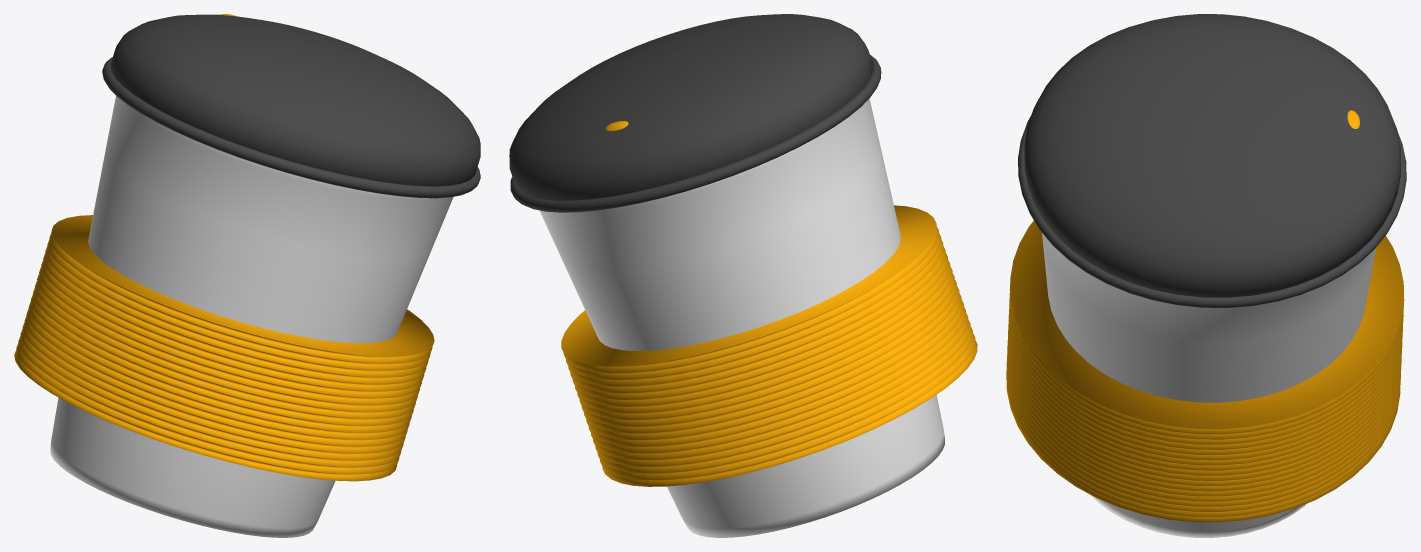
File: coffee_cup.glb
The picture shows the model from 3 angles, left to right: view 1: azimuth 30°, elevation 25°; view 2: azimuth 150°, elevation 25°; view 3: azimuth 270°, elevation 25°; orthographic projection.
Parts seen in each view (by area): view 1: CupBody, CupSleeve, CupLid, LidGrip; view 2: CupBody, CupSleeve, CupLid, LidGrip; view 3: CupLid, CupSleeve, CupBody, LidGrip.
Boxes of the visible parts, left/top/right/bottom form: CupBody: left=50, top=96, right=453, bottom=537; CupSleeve: left=14, top=215, right=434, bottom=481; CupLid: left=110, top=14, right=480, bottom=186; LidGrip: left=102, top=57, right=480, bottom=198; CupBody: left=539, top=98, right=944, bottom=537; CupSleeve: left=561, top=205, right=977, bottom=486; CupLid: left=509, top=14, right=873, bottom=200; LidGrip: left=510, top=55, right=881, bottom=212; CupLid: left=1024, top=14, right=1401, bottom=297; CupSleeve: left=1006, top=221, right=1404, bottom=522; CupBody: left=1042, top=233, right=1376, bottom=537; LidGrip: left=1018, top=116, right=1406, bottom=307.
Size of the model in its own units: 2.16 by 2.35 by 1.83.
